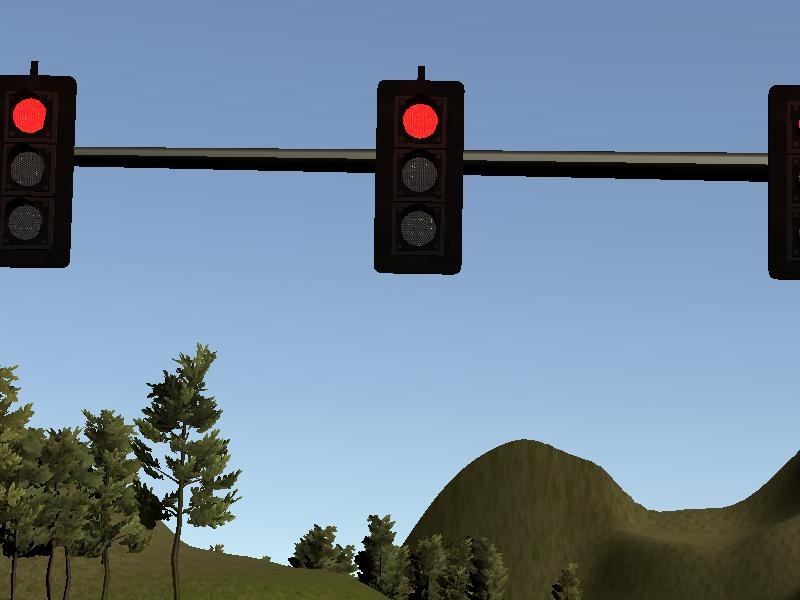red: (376, 81, 465, 276), (1, 75, 78, 269)
